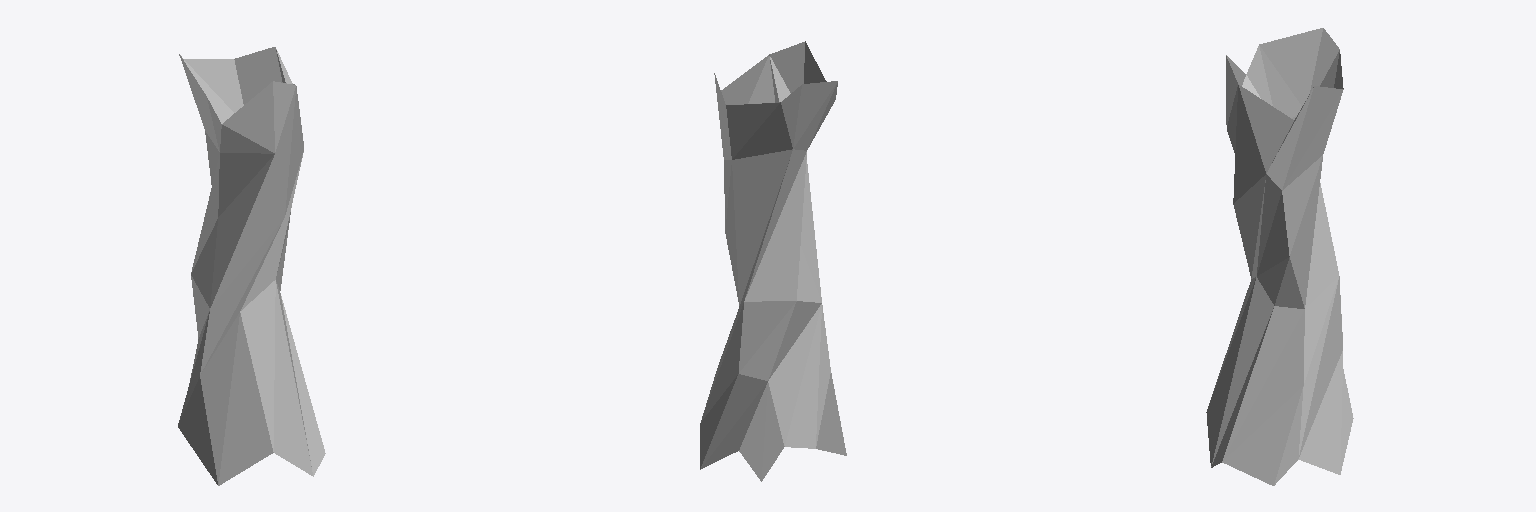
File: DarkColumn02.obj
3 views of the same model, side by side, from view 1: azimuth 30°, elevation 25°; view 2: azimuth 150°, elevation 25°; view 3: azimuth 270°, elevation 25° (orthographic).
Visible parts, largest first — view 1: Cylinder002; view 2: Cylinder002; view 3: Cylinder002.
Part boxes in pixels (x1,y1,x2,y2): Cylinder002: (178, 47, 325, 485); Cylinder002: (700, 41, 846, 481); Cylinder002: (1206, 28, 1353, 485).
Size of the model in its own units: 2.17 by 6.62 by 2.19.